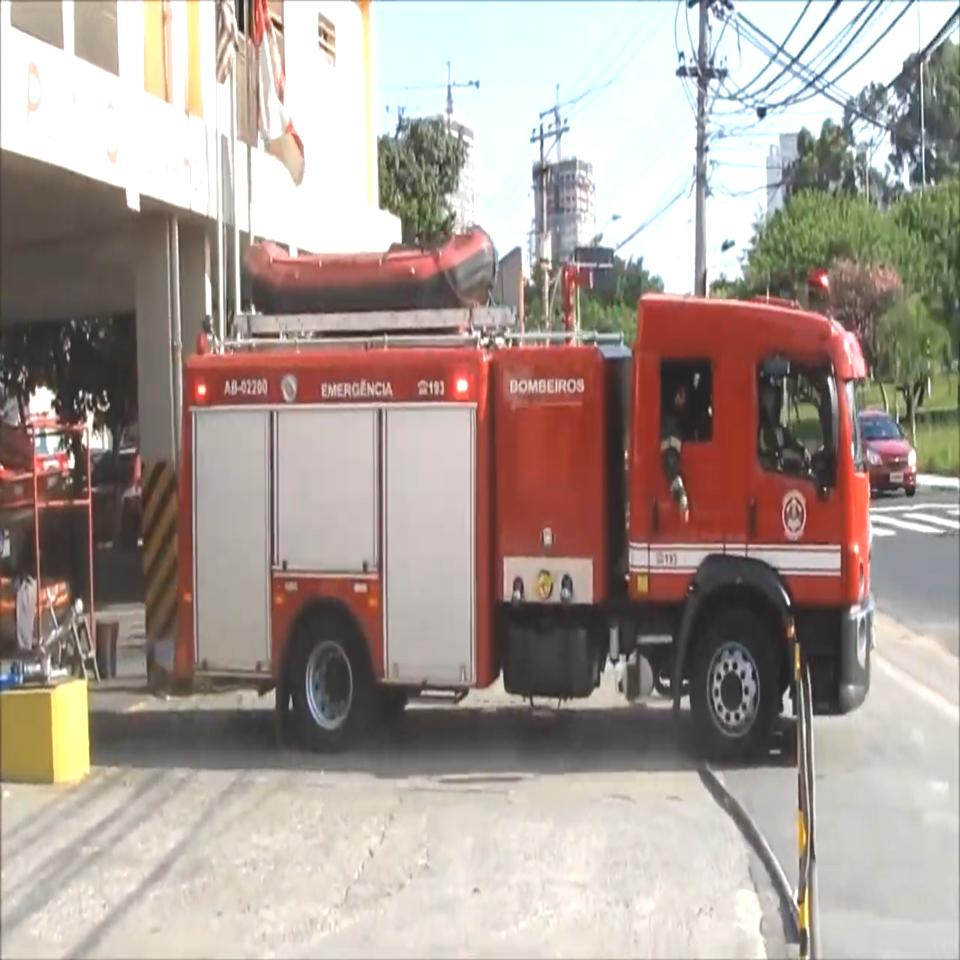bombeiro: (179, 241, 877, 764)
